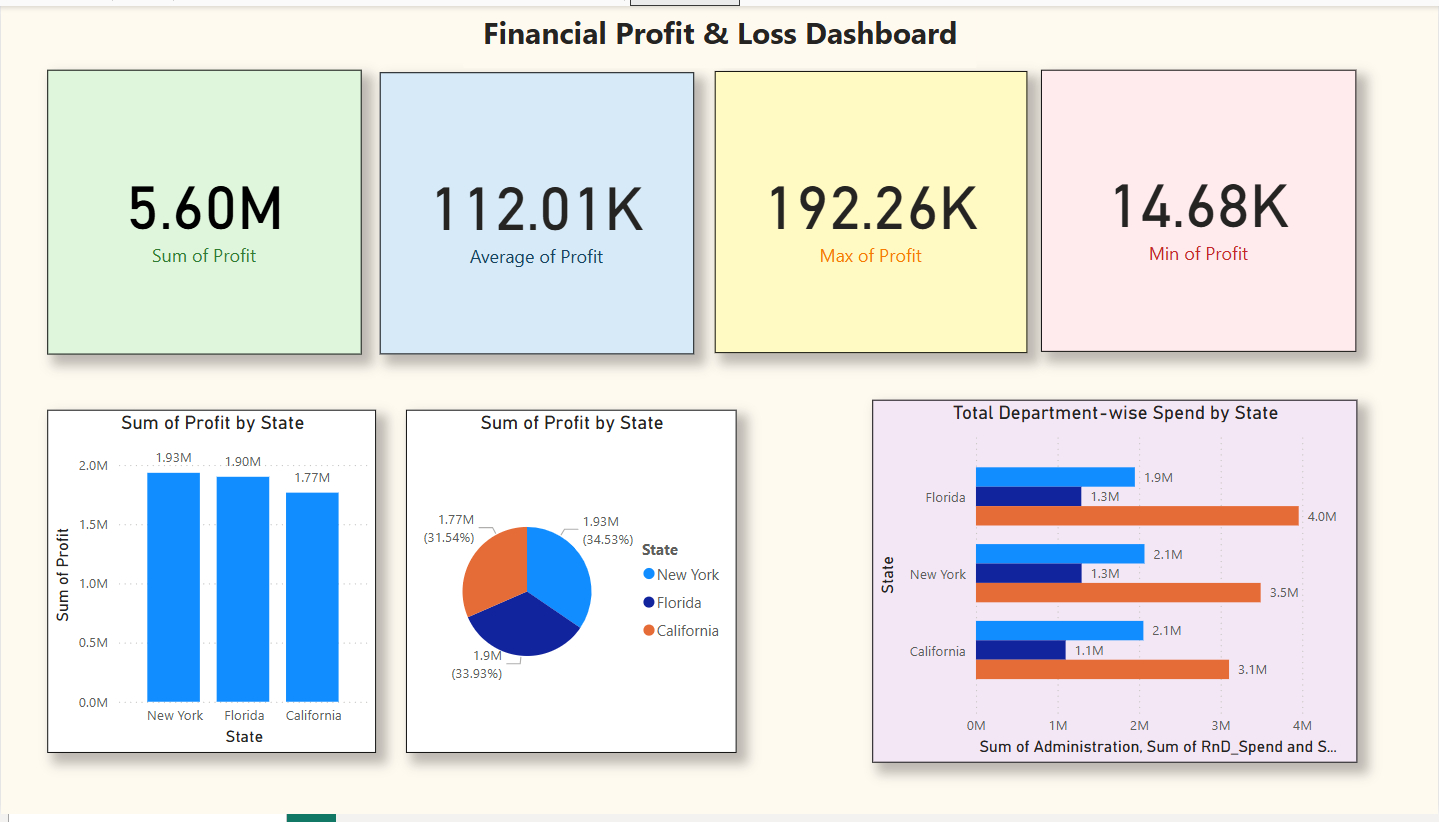

The page's visual inventory and layout, read from the dashboard file:
{"tool":"powerbi","page":{"name":"Financial Profit & Loss Dashboard","canvas":[1280,720],"ordinal":0},"visuals":[{"type":"card","fields":{"Values":["Sum(sql data cleaned.Profit)"]},"box":[41,56.7,279.9,253.4],"z":0},{"type":"card","fields":{"Values":["Avg(sql data cleaned.Profit)"]},"box":[337.8,59.1,279.9,250.9],"z":1000},{"type":"card","fields":{"Values":["Max(sql data cleaned.Profit)"]},"box":[635.8,57.9,278.7,250.9],"z":2000},{"type":"card","fields":{"Values":["Min(sql data cleaned.Profit)"]},"box":[926.5,56.7,281.1,250.9],"z":3000},{"type":"textbox","box":[411.5,0,456.9,54.9],"z":4000},{"type":"clusteredColumnChart","fields":{"Category":["sql data cleaned.State"],"Y":["Sum(sql data cleaned.Profit)"]},"box":[41,359.5,293.2,305.2],"z":4001},{"type":"pieChart","fields":{"Category":["sql data cleaned.State"],"Y":["Sum(sql data cleaned.Profit)"]},"box":[360.7,359.5,294.4,305.2],"z":4002},{"type":"clusteredBarChart","title":"Total Department-wise Spend by State","fields":{"Category":["sql data cleaned.State"],"Y":["Sum(sql data cleaned.Administration)","Sum(sql data cleaned.RnD_Spend)","Sum(sql data cleaned.Marketing_Spend)"]},"box":[775.7,351.1,431.9,323.3],"z":4003}]}

Visuals, with their boxes in screenshot pixels (x1, y1, x2, y2), scaled from the page's 1280x720 canvas onto the 1439x822 screenshot:
card - Sum(sql data cleaned.Profit): (x1=46, y1=65, x2=361, y2=354)
card - Avg(sql data cleaned.Profit): (x1=380, y1=67, x2=694, y2=354)
card - Max(sql data cleaned.Profit): (x1=715, y1=66, x2=1028, y2=353)
card - Min(sql data cleaned.Profit): (x1=1042, y1=65, x2=1358, y2=351)
textbox: (x1=463, y1=0, x2=976, y2=63)
clusteredColumnChart - sql data cleaned.State x Sum(sql data cleaned.Profit): (x1=46, y1=410, x2=376, y2=759)
pieChart - sql data cleaned.State x Sum(sql data cleaned.Profit): (x1=406, y1=410, x2=736, y2=759)
"Total Department-wise Spend by State" clusteredBarChart: (x1=872, y1=401, x2=1358, y2=770)
